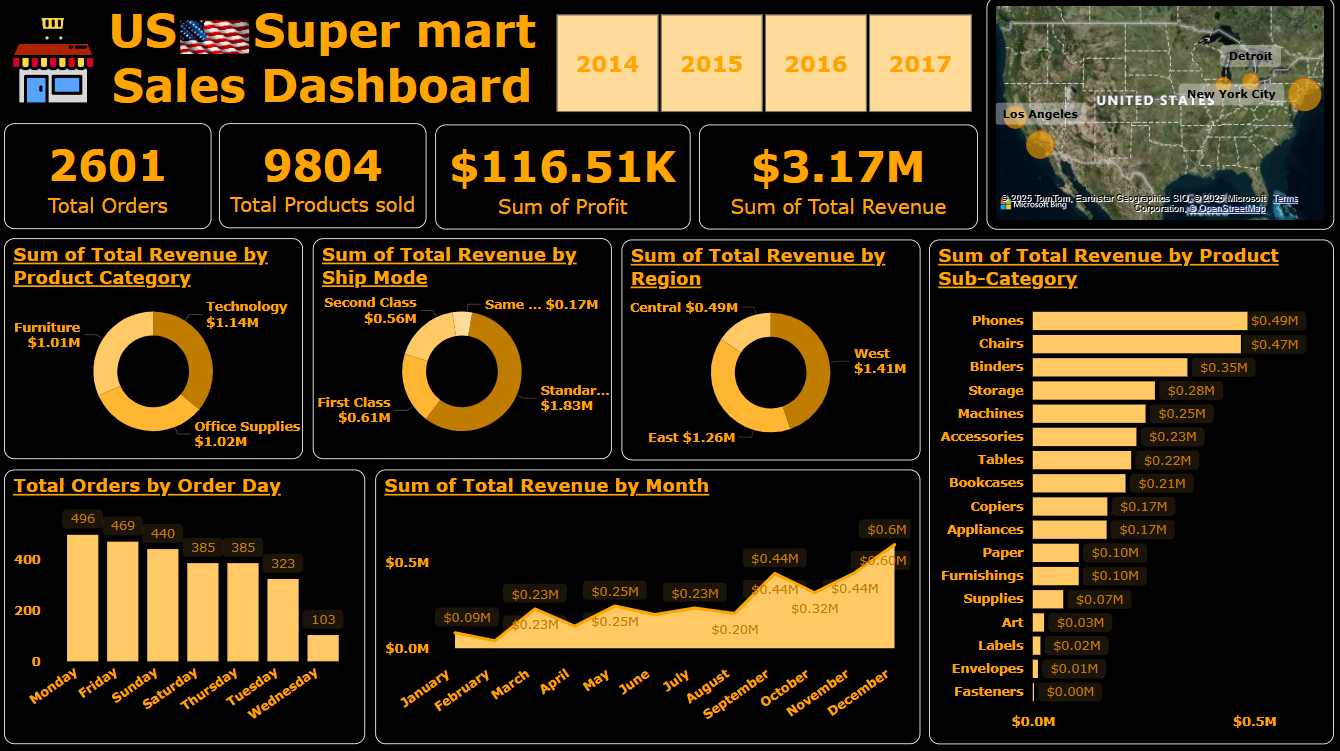

The page's visual inventory and layout, read from the dashboard file:
{"tool":"powerbi","page":{"name":"Page 1","canvas":[1280,720],"ordinal":0},"visuals":[{"type":"image","box":[0,0,103.6,116.7],"z":0},{"type":"textbox","box":[94.2,0,427.2,116.6],"z":1000},{"type":"card","fields":{"Values":["AA_measures (1).Total Orders"]},"box":[4.8,120.2,197.6,101.2],"z":2000},{"type":"card","fields":{"Values":["AA_measures (1).Total Products sold"]},"box":[209.5,120.2,197.6,100],"z":3000},{"type":"card","fields":{"Values":["Sum(AA_Mart.Selling Price)"]},"box":[666.7,121.4,265.5,100],"z":4000},{"type":"card","fields":{"Values":["Sum(AA_Mart.Profit)"]},"box":[415.5,121.4,242.9,100],"z":5000},{"type":"image","box":[168.1,9.4,75.3,57.8],"z":6000},{"type":"map","fields":{"Category":["AA_Mart.City"],"Size":["Sum(AA_Mart.Selling Price)"]},"box":[940.5,0,331,221.4],"z":7000},{"type":"slicer","fields":{"Values":["AA_Mart.Order Date.Variation.Date Hierarchy.Year"]},"box":[504.8,9.5,445.2,107.1],"z":8000},{"type":"donutChart","fields":{"Category":["AA_Mart.Product Category"],"Y":["Sum(AA_Mart.Selling Price)"]},"box":[4.8,229.8,284.5,210.7],"z":9000},{"type":"donutChart","fields":{"Category":["AA_Mart.Ship Mode"],"Y":["Sum(AA_Mart.Selling Price)"]},"box":[298.8,229.8,284.5,210.7],"z":10000},{"type":"donutChart","fields":{"Category":["AA_Mart.Region"],"Y":["Sum(AA_Mart.Selling Price)"]},"box":[592.9,231,284.5,210.7],"z":11000},{"type":"columnChart","fields":{"Category":["AA_Mart.Order Day"],"Y":["AA_measures (1).Total Orders"]},"box":[4.8,450,344,261.9],"z":12000},{"type":"clusteredBarChart","fields":{"Category":["AA_Mart.Product Sub-Category"],"Y":["Sum(AA_Mart.Selling Price)"]},"box":[885.7,231,385.7,481],"z":13000},{"type":"stackedAreaChart","fields":{"Category":["AA_Mart.Order Date.Variation.Date Hierarchy.Month"],"Y":["Sum(AA_Mart.Selling Price)"]},"box":[358.3,450,519.1,261.9],"z":14000}]}

Visuals, with their boxes in screenshot pixels (x1, y1, x2, y2), scaled from the page's 1280x720 canvas onto the 1340x751 screenshot:
image: (0,0,108,122)
textbox: (99,0,546,122)
card - AA_measures (1).Total Orders: (5,125,212,231)
card - AA_measures (1).Total Products sold: (219,125,426,230)
card - Sum(AA_Mart.Selling Price): (698,127,976,231)
card - Sum(AA_Mart.Profit): (435,127,689,231)
image: (176,10,255,70)
map - AA_Mart.City x Sum(AA_Mart.Selling Price): (985,0,1331,231)
slicer - AA_Mart.Order Date.Variation.Date Hierarchy.Year: (528,10,995,122)
donutChart - AA_Mart.Product Category x Sum(AA_Mart.Selling Price): (5,240,303,459)
donutChart - AA_Mart.Ship Mode x Sum(AA_Mart.Selling Price): (313,240,611,459)
donutChart - AA_Mart.Region x Sum(AA_Mart.Selling Price): (621,241,919,461)
columnChart - AA_Mart.Order Day x AA_measures (1).Total Orders: (5,469,365,743)
clusteredBarChart - AA_Mart.Product Sub-Category x Sum(AA_Mart.Selling Price): (927,241,1331,743)
stackedAreaChart - AA_Mart.Order Date.Variation.Date Hierarchy.Month x Sum(AA_Mart.Selling Price): (375,469,919,743)
